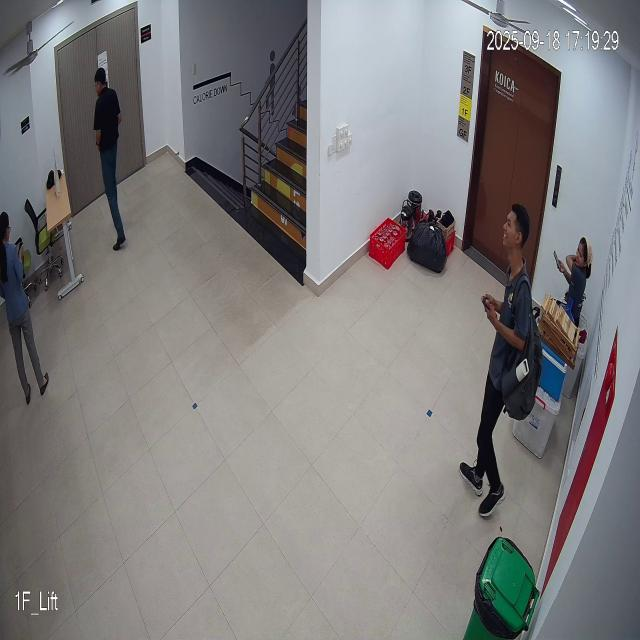face: (499, 195, 534, 261)
